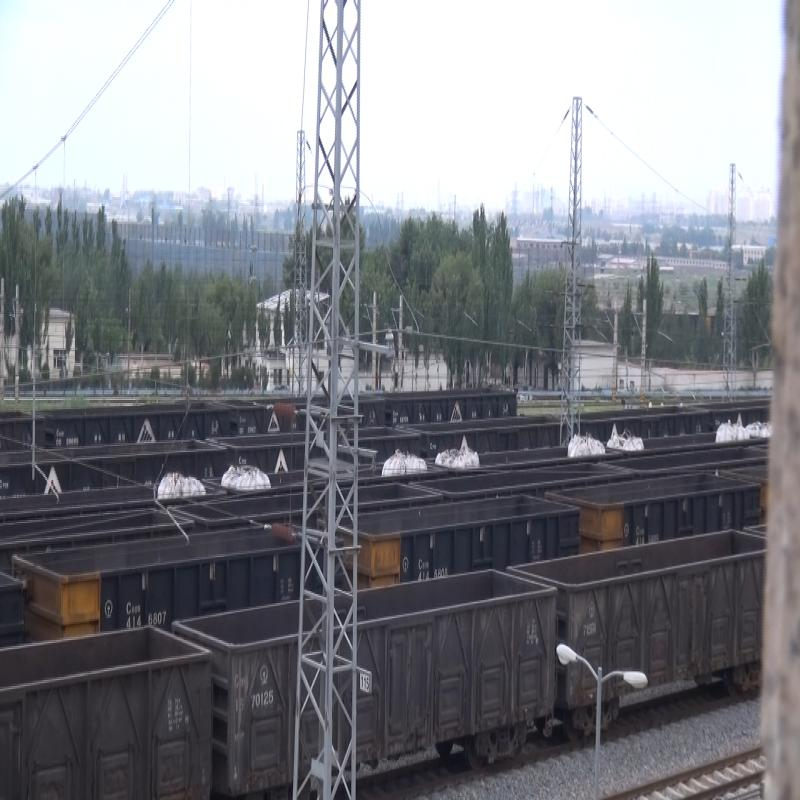train: (207, 615, 553, 762), (553, 561, 766, 703), (361, 518, 580, 579)
